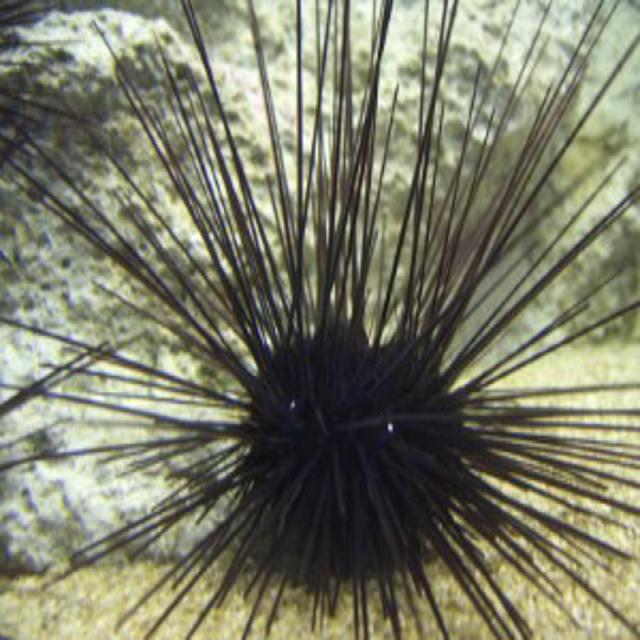Urchin: (8, 4, 635, 629)
